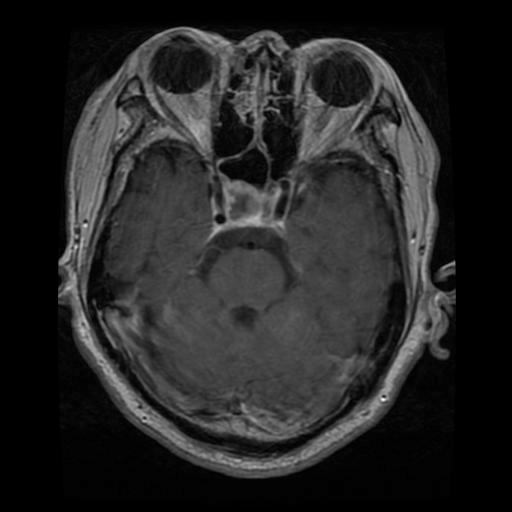Tumour-Pituitary: (195, 181, 311, 243)
